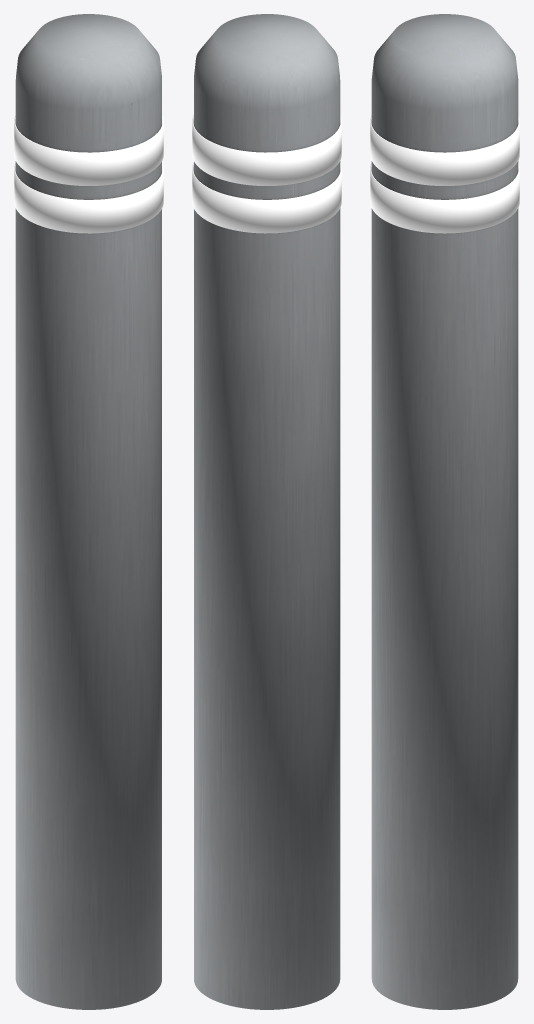
File: stainless.glb
The picture shows the model from 3 angles, left to right: view 1: azimuth 30°, elevation 25°; view 2: azimuth 150°, elevation 25°; view 3: azimuth 270°, elevation 25°; orthographic projection.
Parts seen in each view (by area): view 1: steel, reflector; view 2: steel, reflector; view 3: steel, reflector.
Part boxes in pixels (x1,y1,x2,y2): steel: (15, 14, 161, 1009); reflector: (14, 115, 163, 233); steel: (194, 14, 340, 1009); reflector: (192, 115, 341, 233); steel: (371, 14, 518, 1009); reflector: (370, 116, 519, 233).
Bounding box in the file's own units: 0.143 × 1 × 0.143.
2 materials, 1 textured.
